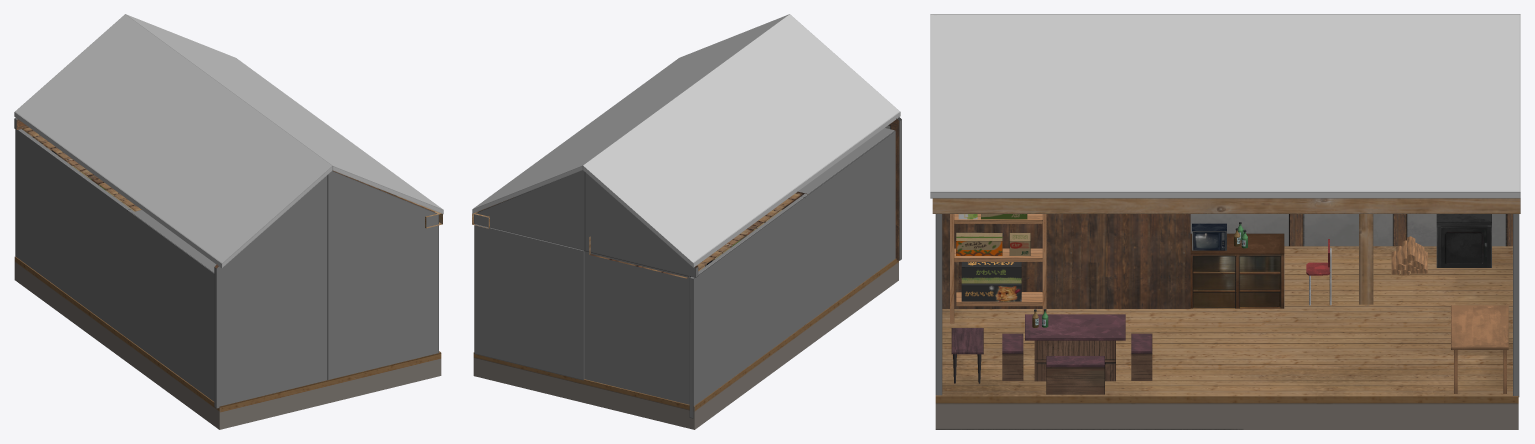
Rendered from barn001.fbx.
3 views of the same model, side by side, from view 1: azimuth 30°, elevation 25°; view 2: azimuth 150°, elevation 25°; view 3: azimuth 270°, elevation 25° (orthographic). The views are drawn at different scales.
Parts seen in each view (by area): view 1: Cube.122, Cube.109, Cube.108, Cube.096, Cube.045, Cube.004; view 2: Cube.122, Cube.108, Cube.003, Cube.047, Cube.096, Cube.042, Cube.109, Cube.045, Cube.004; view 3: Cube.122, Cube.096, Cube.045, Cube.044, Cube.108, Cube.115, Cube.123, Cube.005, Cube.106, Cube.102, Cube.107, Cube.109 (+13 smaller).
Part boxes in pixels (x1,y1,x2,y2): Cube.122: (14, 14, 443, 267); Cube.109: (214, 170, 438, 408); Cube.108: (15, 129, 214, 401); Cube.096: (14, 256, 441, 429); Cube.045: (131, 210, 216, 272); Cube.004: (23, 127, 141, 211); Cube.122: (472, 14, 900, 267); Cube.108: (689, 131, 895, 418); Cube.003: (474, 224, 584, 380); Cube.047: (584, 250, 689, 404); Cube.096: (473, 258, 898, 429); Cube.042: (474, 170, 698, 277); Cube.109: (885, 117, 901, 260); Cube.045: (764, 128, 894, 222); Cube.004: (589, 192, 802, 278); Cube.122: (930, 14, 1520, 198); Cube.096: (935, 246, 1518, 429); Cube.045: (942, 214, 1190, 308); Cube.044: (932, 198, 1520, 213); Cube.108: (1190, 214, 1512, 246); Cube.115: (1190, 233, 1284, 308); Cube.123: (1436, 214, 1491, 267); Cube.005: (1451, 305, 1508, 393); Cube.106: (1025, 314, 1125, 340); Cube.102: (1046, 356, 1104, 394); Cube.107: (1034, 340, 1115, 381); Cube.109: (935, 214, 942, 395).
Bounding box in the file's own units: 272 × 275 × 434.
Materials: 43 (43 with a texture image).
